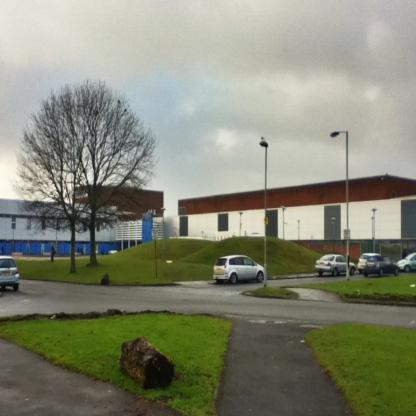Car: (213, 249, 271, 289), (316, 252, 356, 278), (363, 253, 400, 277), (0, 254, 20, 291), (359, 251, 384, 275), (398, 251, 415, 275)
